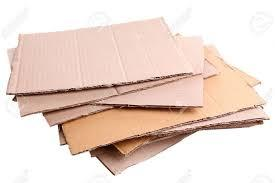plastic: (51, 36, 269, 183), (2, 12, 193, 98), (16, 62, 176, 116), (180, 36, 205, 69)
